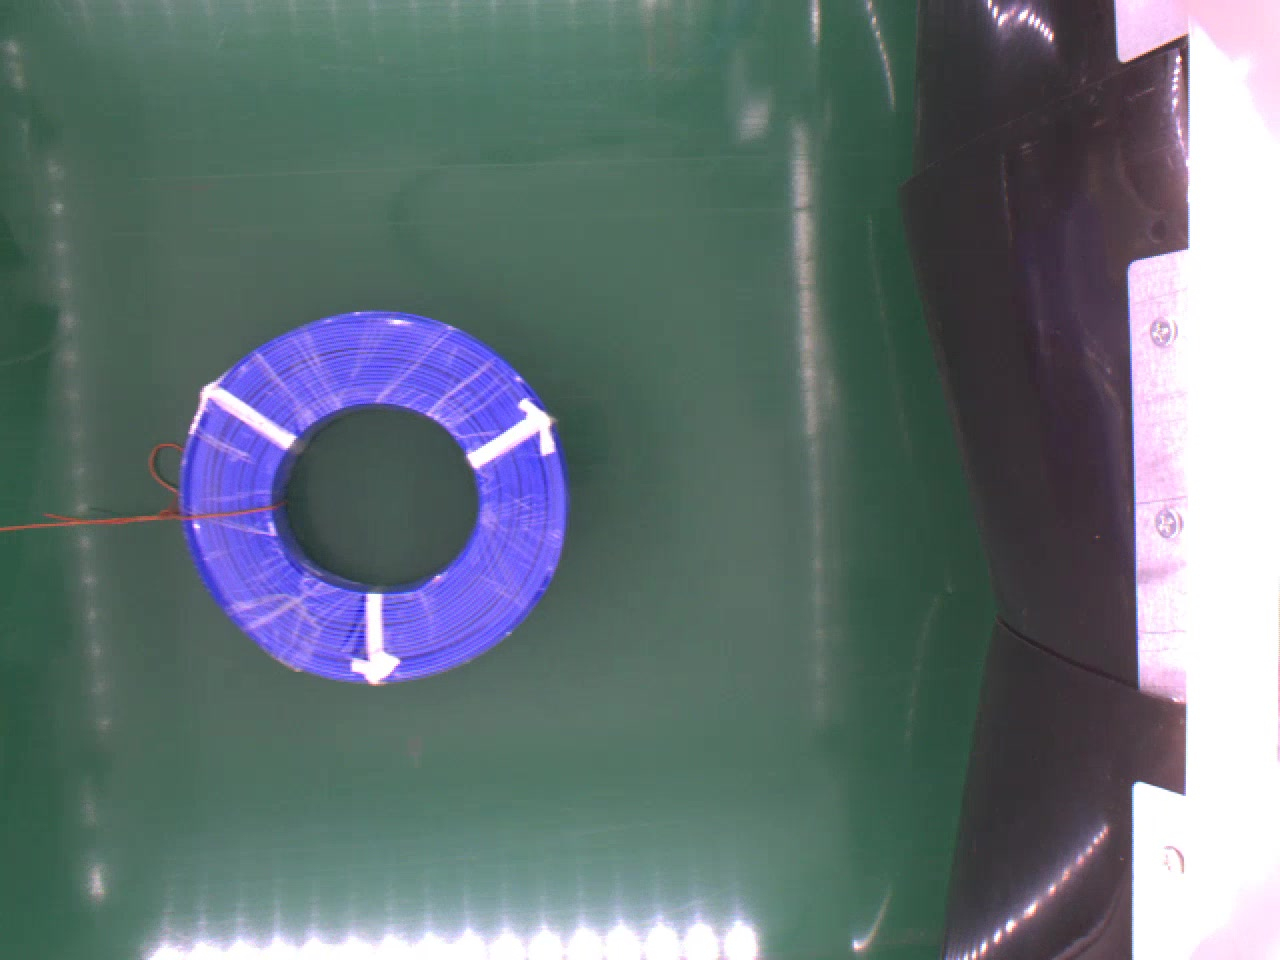blue: (176, 309, 567, 686)
